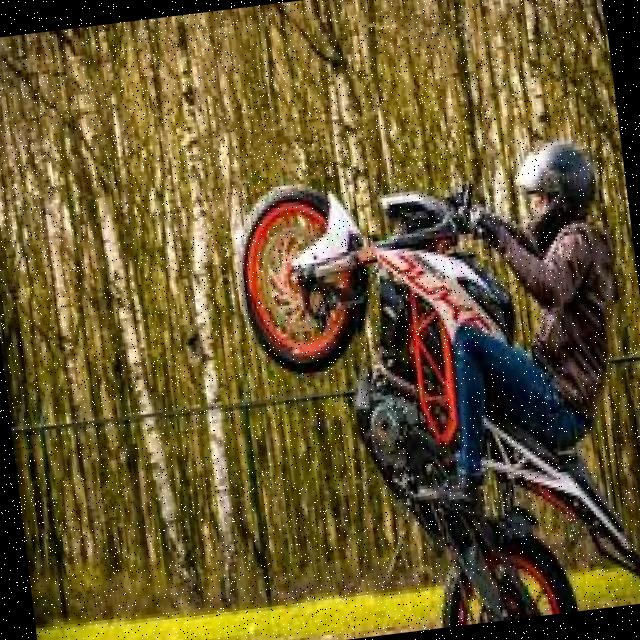Wheeling: (222, 114, 640, 640)
